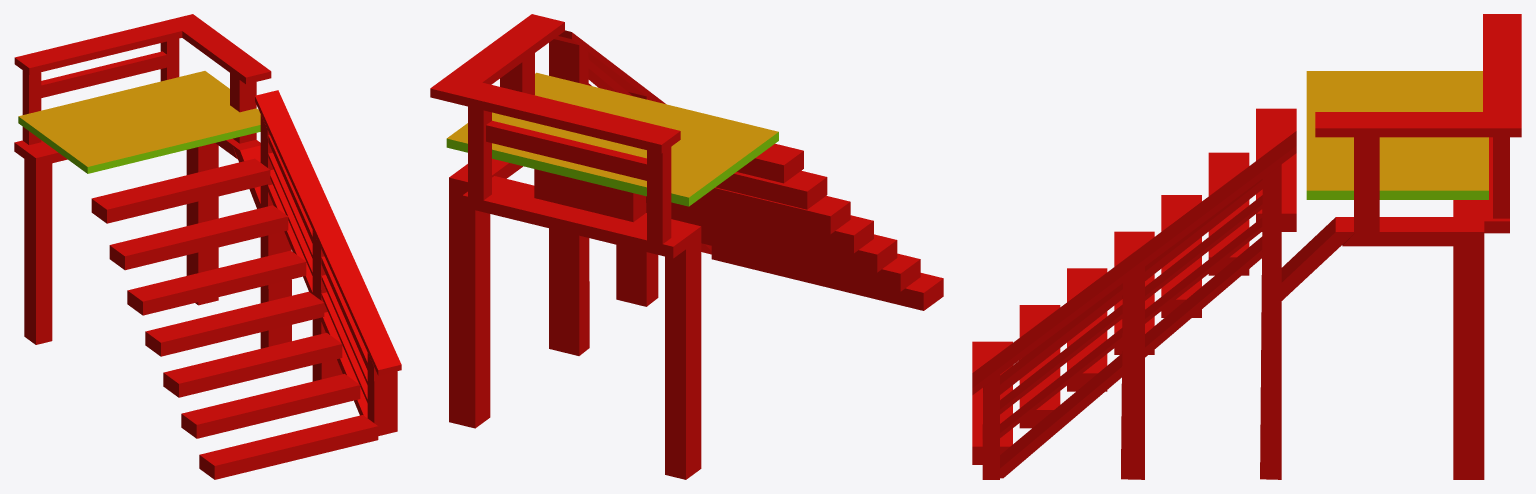
File: StairsLeft.fbx
The picture shows the model from 3 angles, left to right: view 1: azimuth 30°, elevation 25°; view 2: azimuth 150°, elevation 25°; view 3: azimuth 270°, elevation 25°; orthographic projection. The views are drawn at different scales.
Parts seen in each view (by area): view 1: Stairs_2Peice_Left; view 2: Stairs_2Peice_Left; view 3: Stairs_2Peice_Left.
Boxes of the visible parts, x1=… form: Stairs_2Peice_Left: x1=14, y1=14, x2=401, y2=479; Stairs_2Peice_Left: x1=430, y1=14, x2=943, y2=479; Stairs_2Peice_Left: x1=972, y1=14, x2=1521, y2=479.
Size of the model in its own units: 200 by 274 by 387.
